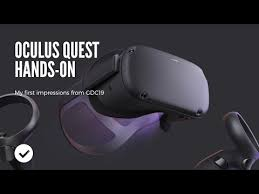oculus: (85, 45, 210, 130)
